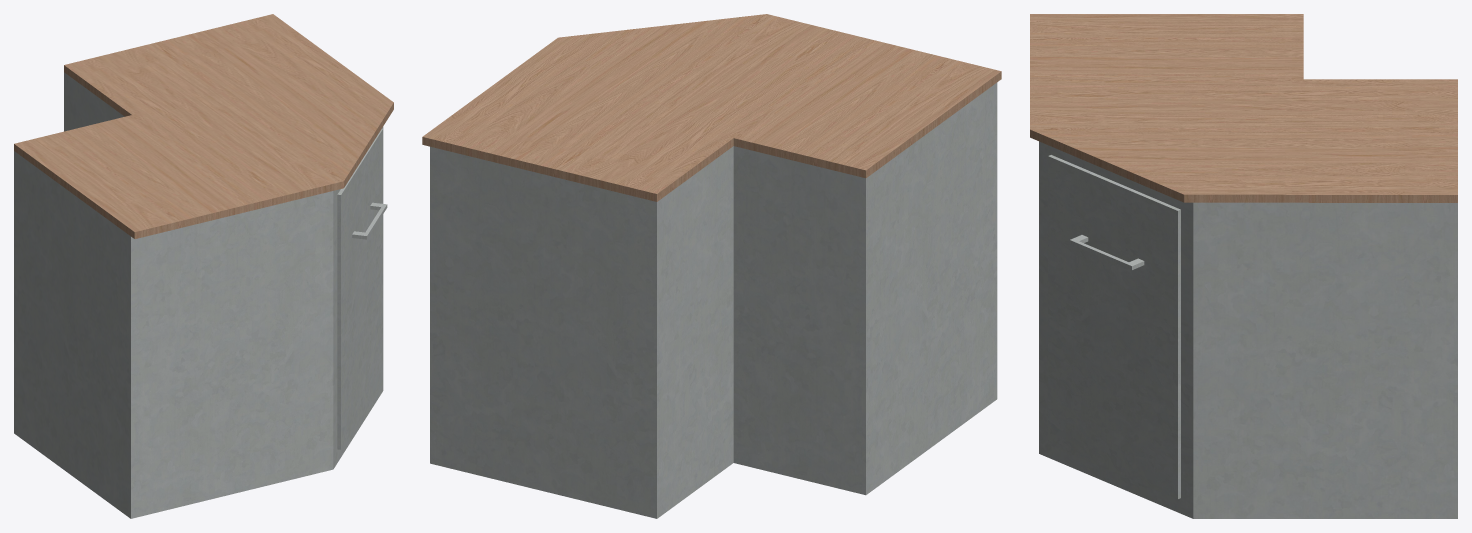
File: Esquinero.glb
3 renders of one model, left to right at view 1: azimuth 30°, elevation 25°; view 2: azimuth 150°, elevation 25°; view 3: azimuth 270°, elevation 25°, orthographic. The views are drawn at different scales.
Parts seen in each view (by area): view 1: Esquinero, TapaEsq, PuertaEsq; view 2: Esquinero, TapaEsq; view 3: Esquinero, TapaEsq, PuertaEsq, HandleEsq.
Part boxes in pixels (box(x1,y1,x2,y2)): Esquinero: box(14, 72, 383, 518); TapaEsq: box(14, 14, 393, 238); PuertaEsq: box(337, 128, 382, 449); Esquinero: box(430, 82, 997, 518); TapaEsq: box(422, 14, 1001, 201); Esquinero: box(1039, 141, 1457, 518); TapaEsq: box(1030, 14, 1457, 202); PuertaEsq: box(1048, 155, 1180, 499); HandleEsq: box(1069, 235, 1144, 269).
Bounding box in the file's own units: 0.97 × 0.82 × 0.97.
2 materials, 2 textured.
